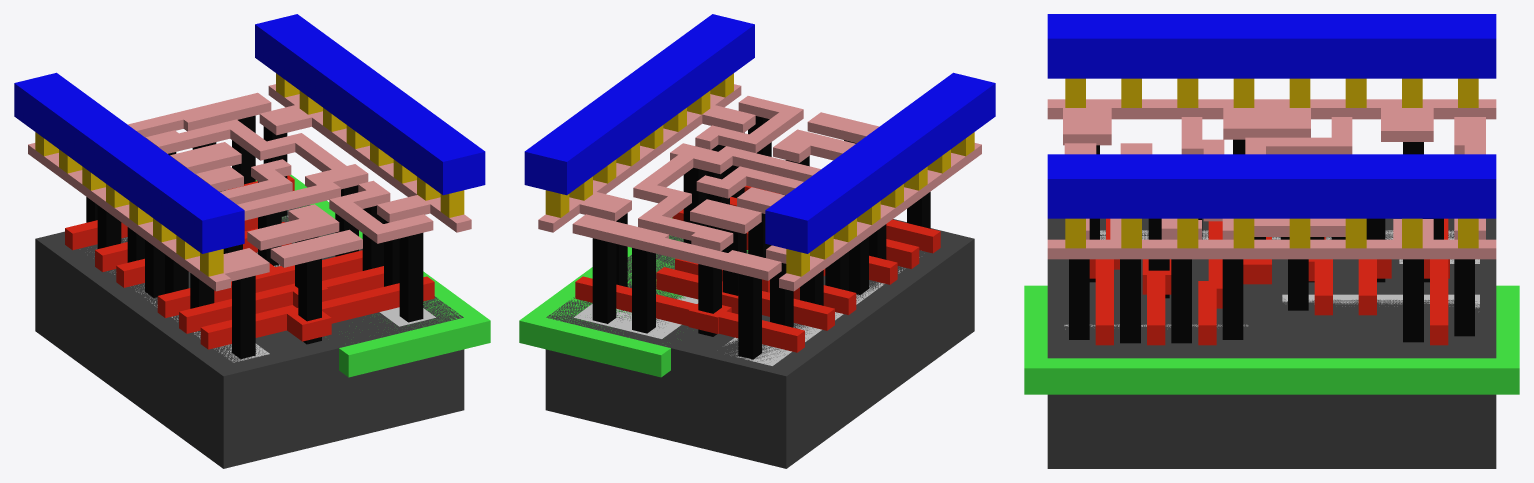
Rendered from sky130_fd_sc_hd__a2bb2o_1.obj.
3 views of the same model, side by side, from view 1: azimuth 30°, elevation 25°; view 2: azimuth 150°, elevation 25°; view 3: azimuth 270°, elevation 25° (orthographic). The views are drawn at different scales.
Visible parts, largest first — view 1: subs, metal1, li, poly, licon, nwell, mcon; view 2: subs, metal1, li, licon, poly, nwell, mcon, tap, diff; view 3: metal1, subs, li, nwell, licon, poly, mcon, tap.
Part boxes in pixels (left/top/right/bottom): subs: left=35, top=205, right=464, bottom=468; metal1: left=14, top=14, right=485, bottom=253; li: left=28, top=84, right=471, bottom=291; poly: left=65, top=175, right=434, bottom=349; licon: left=86, top=115, right=423, bottom=358; nwell: left=255, top=175, right=490, bottom=377; mcon: left=35, top=73, right=464, bottom=276; subs: left=545, top=219, right=974, bottom=468; metal1: left=524, top=14, right=995, bottom=253; li: left=538, top=84, right=981, bottom=291; licon: left=592, top=116, right=930, bottom=359; poly: left=575, top=185, right=940, bottom=352; nwell: left=519, top=217, right=747, bottom=377; mcon: left=545, top=73, right=974, bottom=276; tap: left=574, top=295, right=698, bottom=338; diff: left=725, top=257, right=919, bottom=365; metal1: left=1047, top=14, right=1496, bottom=218; subs: left=1047, top=218, right=1496, bottom=468; li: left=1047, top=99, right=1496, bottom=259; nwell: left=1024, top=285, right=1519, bottom=394; licon: left=1069, top=139, right=1474, bottom=343; poly: left=1089, top=218, right=1449, bottom=345; mcon: left=1065, top=78, right=1478, bottom=248; tap: left=1064, top=294, right=1479, bottom=329.
Bounding box in the file's own units: 3.2 × 2.74 × 4.06.
